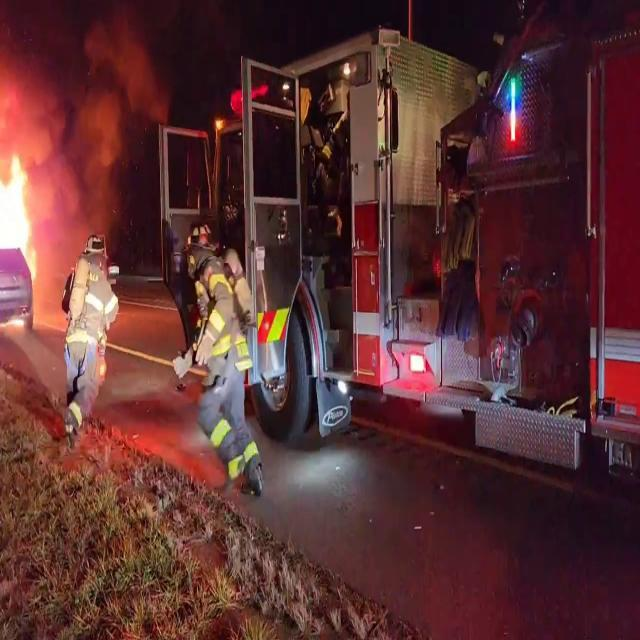Fire: (0, 140, 46, 305)
Smoke: (0, 0, 166, 196)
